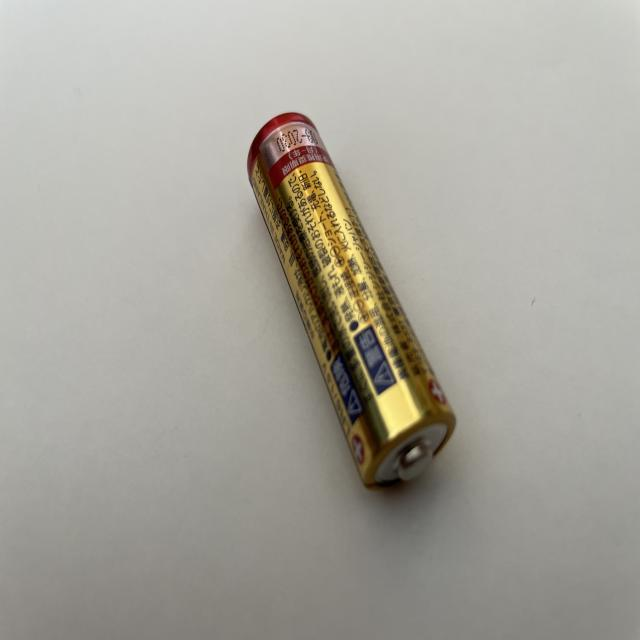hazardous waste: (244, 104, 458, 490)
